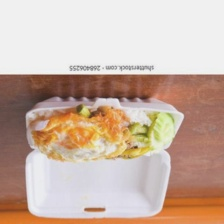foam_box: (20, 92, 189, 222)
